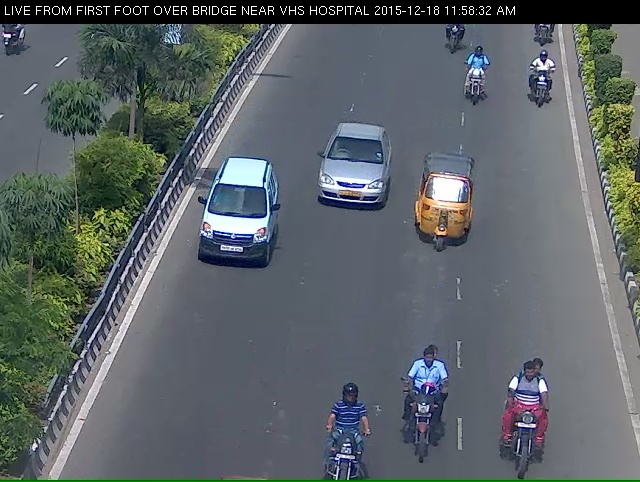Car: (193, 172, 267, 281), (309, 133, 389, 222), (407, 160, 470, 259)
Person: (392, 365, 443, 471), (501, 392, 546, 475), (317, 414, 367, 478), (460, 54, 489, 118), (529, 57, 547, 117), (435, 21, 460, 61)
